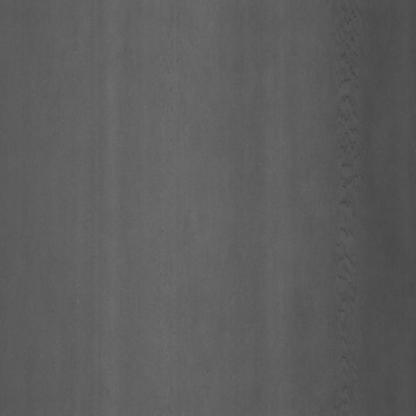silk_spot: (328, 27, 374, 272)
